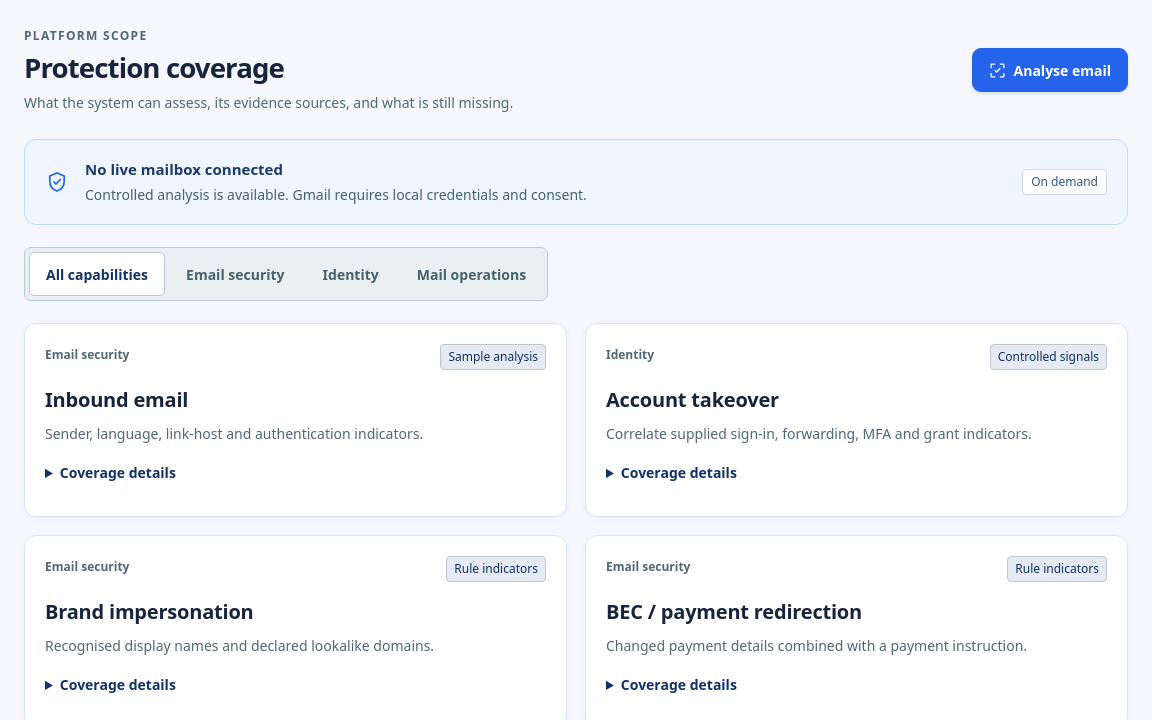
Test: distinguishes sample analysis from absent mail protection and platform integrations
Expected: the text "No live mailbox connected" is shown, [85,159,283,179]
Click the button "Mail operations" at (471, 274), box [400,252,543,296]
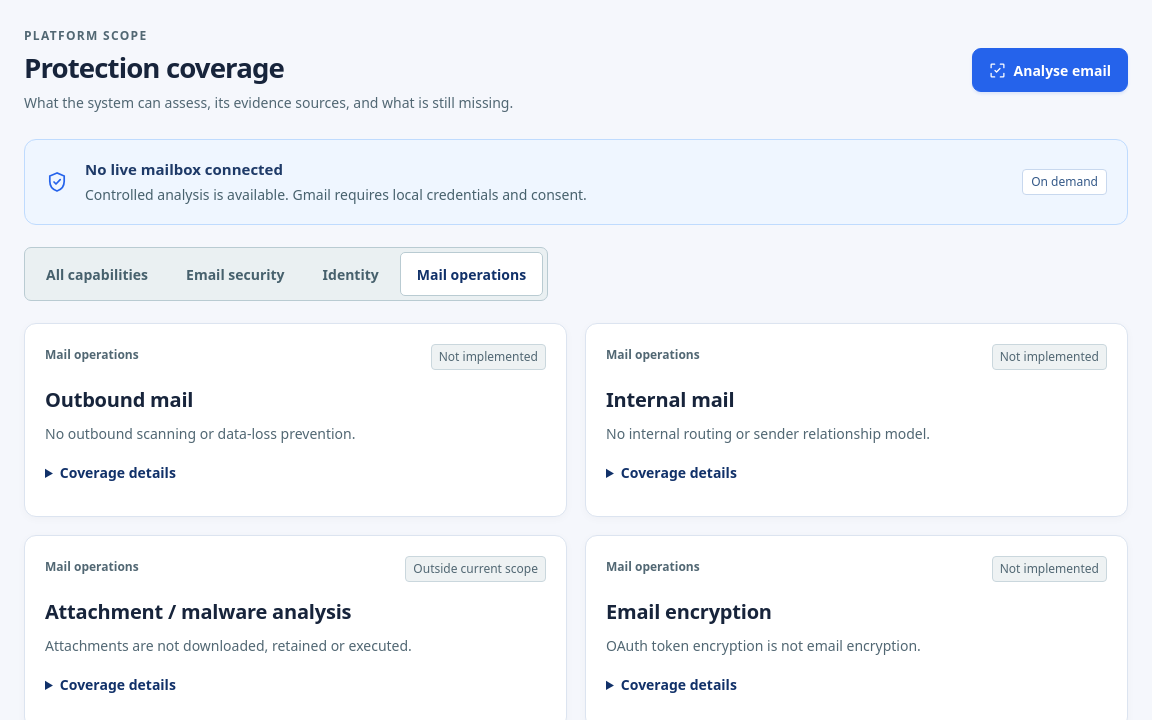
Expected: the heading "Attachment / malware analysis" is shown, [45,598,351,625]
Expected: the heading "Inbound email" is gone
